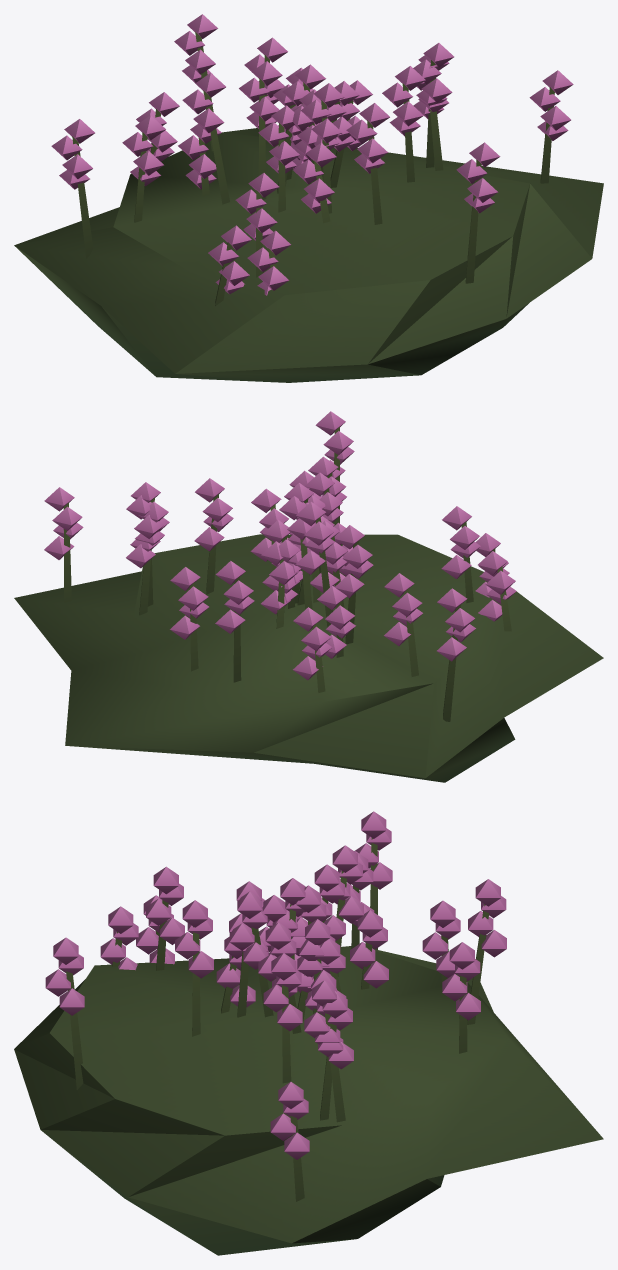
Rendered from heather.glb.
3 views of the same model, one above another, from view 1: azimuth 30°, elevation 25°; view 2: azimuth 150°, elevation 25°; view 3: azimuth 270°, elevation 25° (orthographic). The views are drawn at different scales.
Visible parts, largest first — view 1: heather; view 2: heather; view 3: heather.
Part boxes in pixels (<box>): heather: <box>14,14,603,382</box>; heather: <box>14,411,603,782</box>; heather: <box>14,811,603,1255</box>.
Bounding box in the file's own units: 1.03 × 0.4807 × 0.9242.
